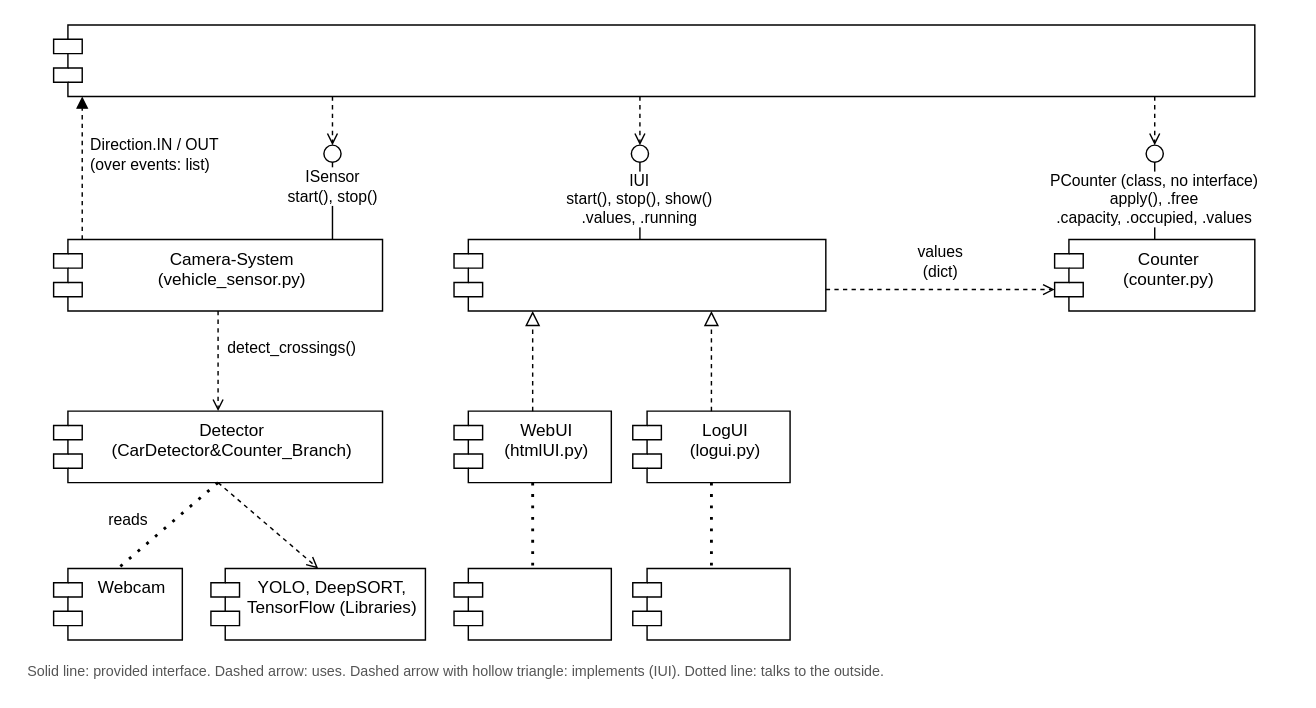
The diagram is 1316 pixels wide and 708 high, and some of its shapes have lost their labels. Here are the shapes that lost their labels. From the top down, the centre of each, then its label:
the point at 653,60: Main Programm (main.py)
the point at 639,274: UserInterface (ui_interface.py, abstract class IUI)
the point at 532,603: Browser (HTTP :8000)
the point at 710,603: Log file
